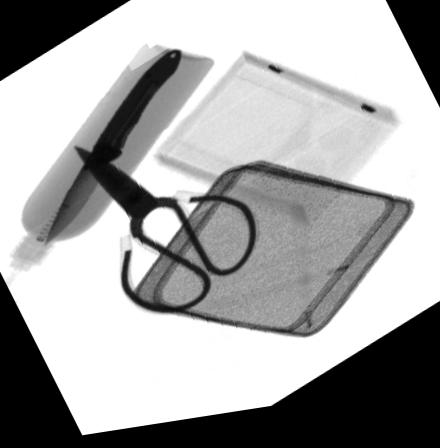Knife: (41, 52, 182, 248)
Scissors: (74, 146, 258, 319)
